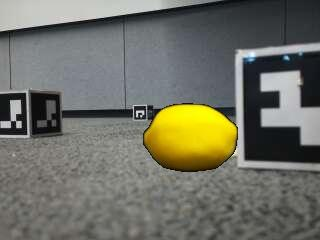lemon: (144, 107, 237, 173)
